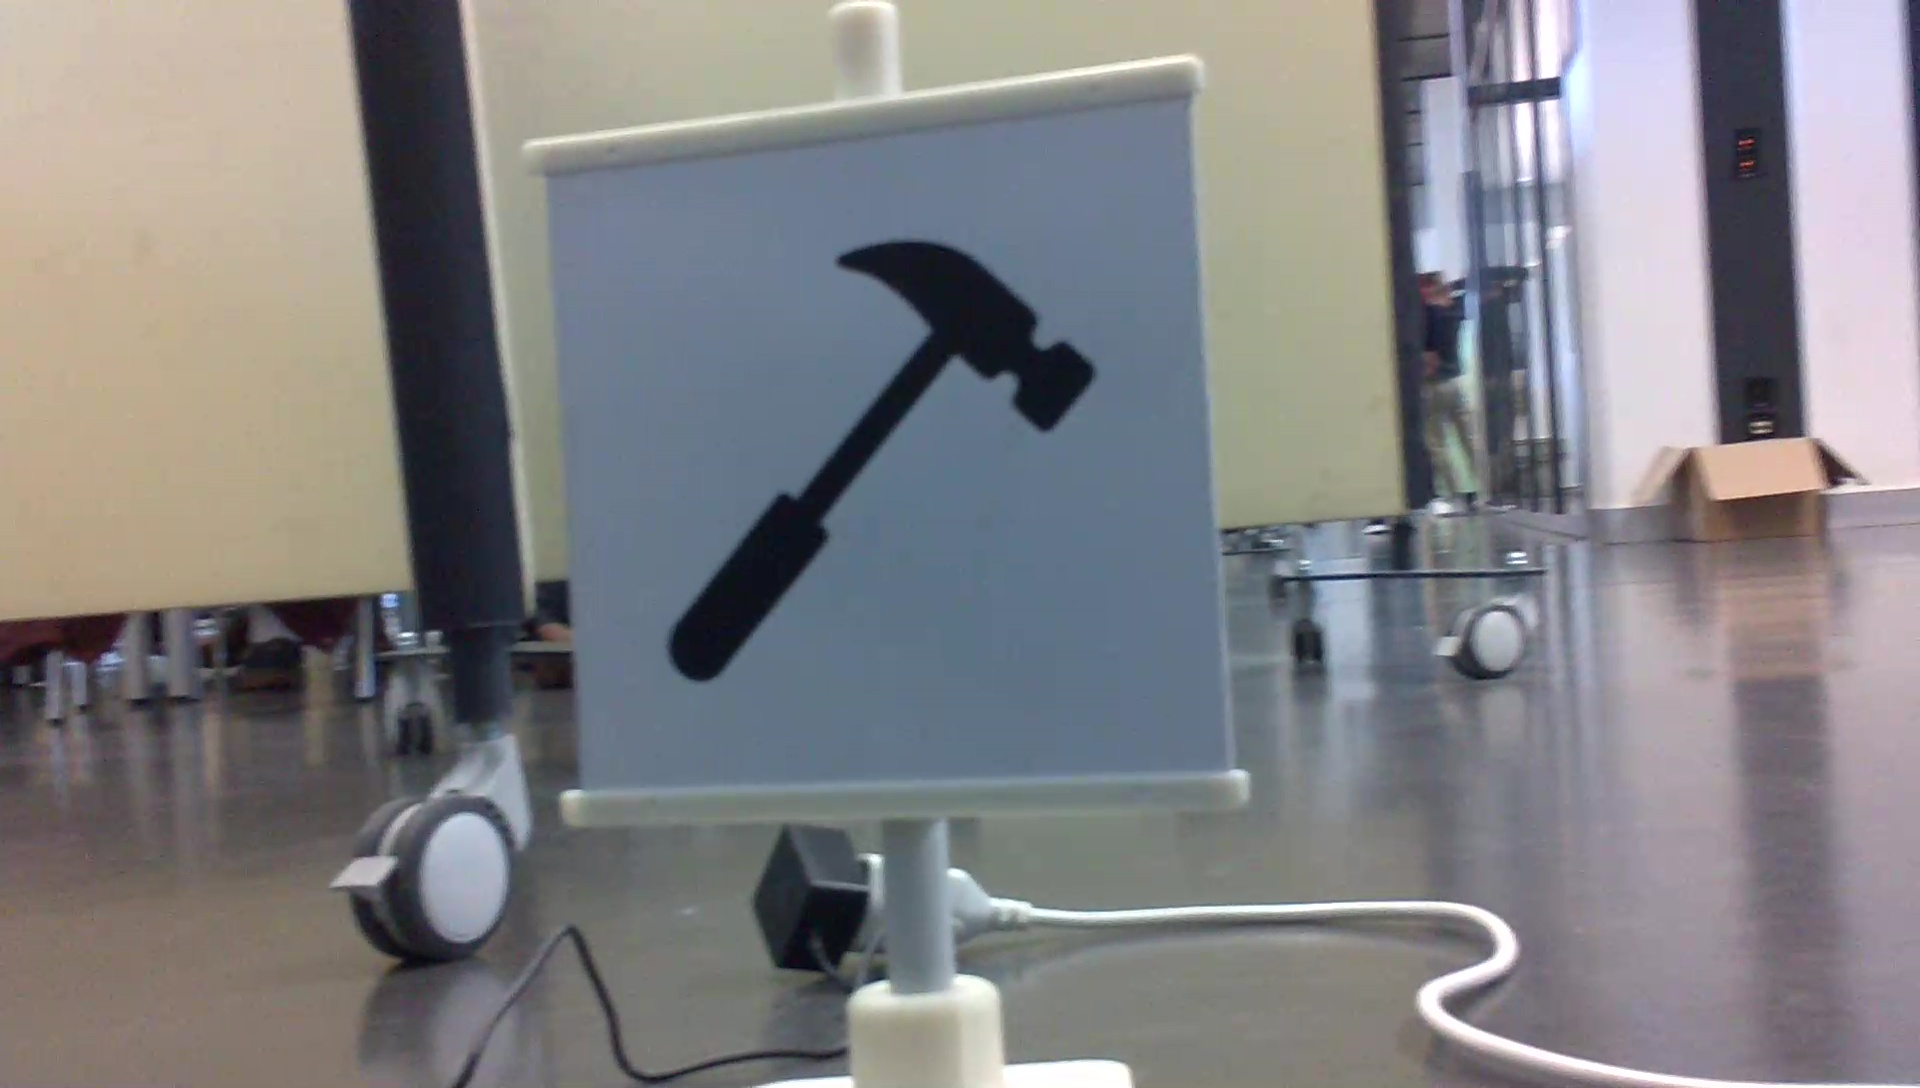hammer: (661, 232, 1110, 698)
